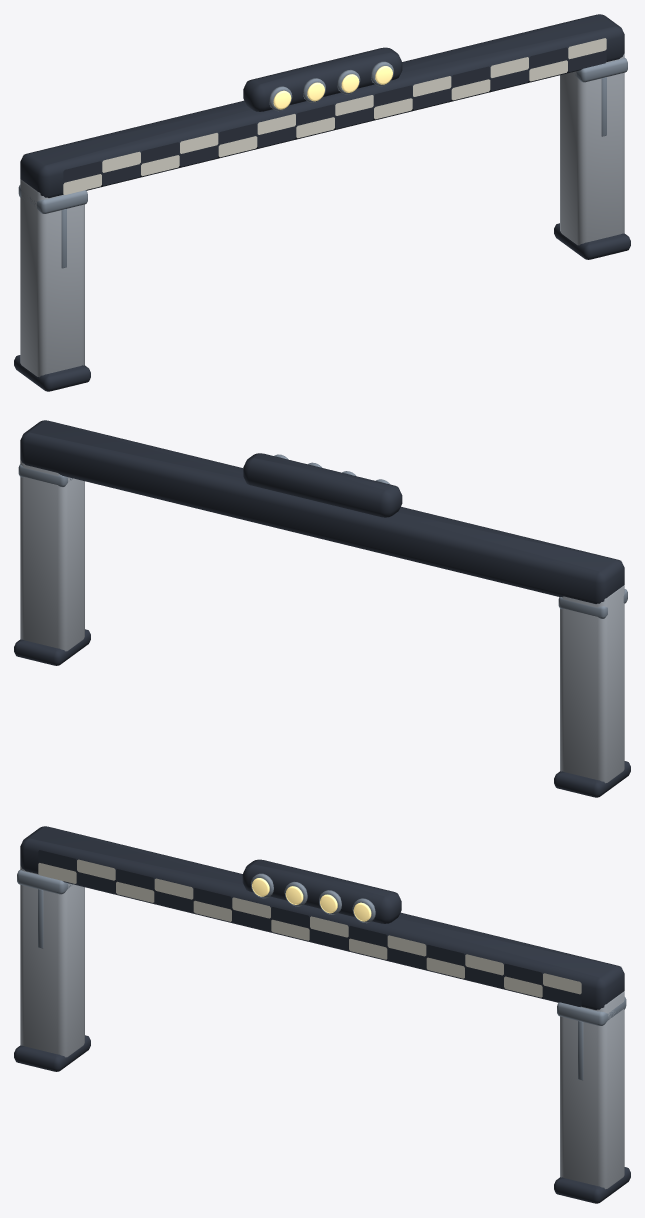
The model's file is deco-largada.glb.
The picture shows the model from 3 angles, top to bottom: view 1: azimuth 30°, elevation 25°; view 2: azimuth 150°, elevation 25°; view 3: azimuth 330°, elevation 25°; orthographic projection.
Parts seen in each view (by area): view 1: deco-largada; view 2: deco-largada; view 3: deco-largada.
Boxes of the visible parts, x1=… form: deco-largada: x1=14, y1=14, x2=630, y2=391; deco-largada: x1=14, y1=420, x2=630, y2=797; deco-largada: x1=14, y1=826, x2=630, y2=1203.
Bounding box in the file's own units: 22.6 × 9 × 2.3.
